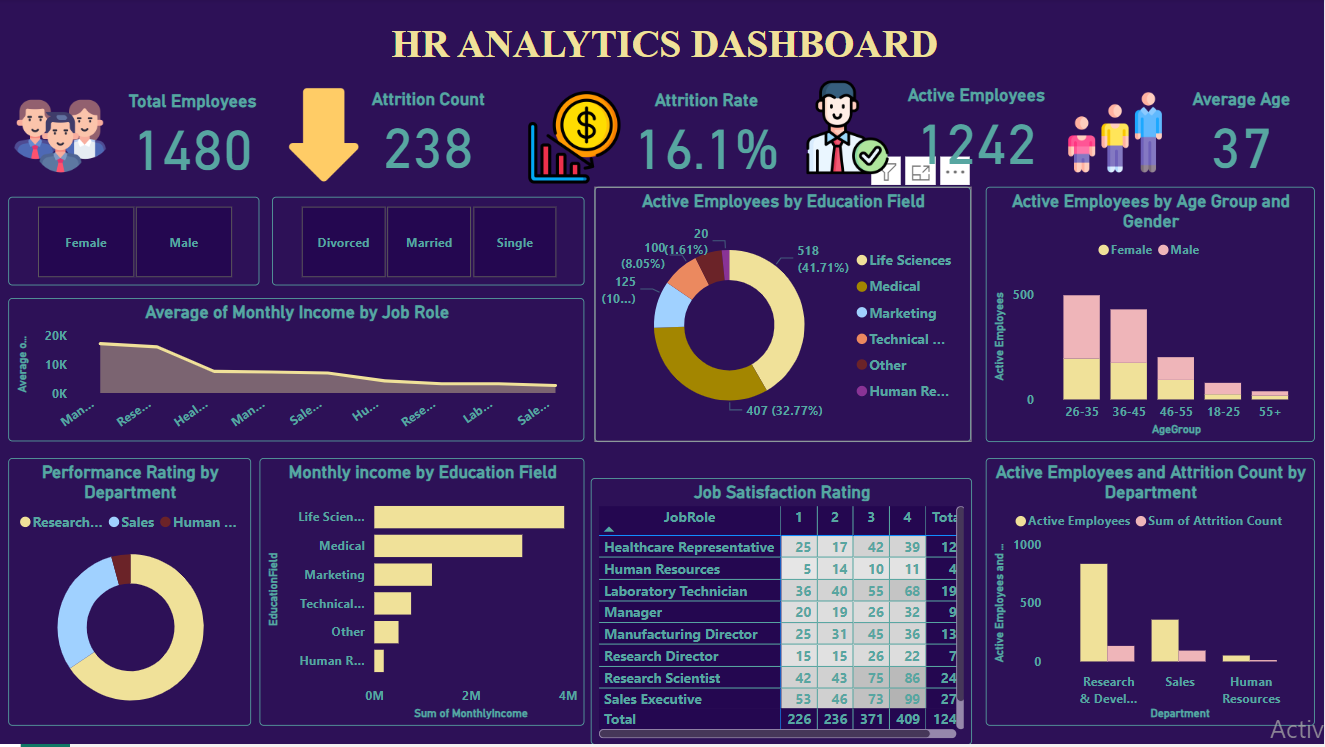

Layout of this report page (visuals, bound fields, positions):
{"tool":"powerbi","page":{"name":"Page 1","canvas":[1280,720],"ordinal":0},"visuals":[{"type":"card","title":"Total Employees","fields":{"Values":["Sum(HR_Analytics.EmployeeCount)"]},"box":[111,89.2,155.6,83.2],"z":0,"group":"g1"},{"type":"clusteredColumnChart","title":"Active Employees and Attrition Count by Department","fields":{"Category":["HR_Analytics.Department"],"Y":["HR_Analytics.Active Employees","Sum(HR_Analytics.Attrition Count)"]},"box":[954.3,444,317.3,258.2],"z":0},{"type":"card","title":"Attrition Count","fields":{"Values":["Sum(HR_Analytics.Attrition Count)"]},"box":[336.6,86.8,159.3,83.2],"z":1000,"group":"g1"},{"type":"donutChart","title":"Active Employees by Education Field","fields":{"Y":["HR_Analytics.Active Employees"],"Category":["HR_Analytics.EducationField"]},"box":[576.7,182.2,363.1,246.1],"z":1000},{"type":"card","title":" Attrition Rate","fields":{"Values":["HR_Analytics.Attrition Rate"]},"box":[608.1,88,153.2,83.2],"z":2000,"group":"g1"},{"type":"columnChart","title":"Active Employees by Age Group and Gender","fields":{"Y":["HR_Analytics.Active Employees"],"Category":["HR_Analytics.AgeGroup"],"Series":["HR_Analytics.Gender"]},"box":[954.3,182.2,317.3,246.1],"z":2000},{"type":"card","title":"Active Employees","fields":{"Values":["HR_Analytics.Active Employees"]},"box":[869.9,83.2,150.8,83.2],"z":3000,"group":"g1"},{"type":"pivotTable","title":"Job Satisfaction Rating","fields":{"Rows":["HR_Analytics.JobRole"],"Columns":["HR_Analytics.JobSatisfaction"],"Values":["HR_Analytics.Active Employees"]},"box":[576.7,444,368,258.2],"z":3000},{"type":"card","title":"Average Age","fields":{"Values":["Avg(HR_Analytics.Age)"]},"box":[1122,86.8,158,83.2],"z":4000,"group":"g1"},{"type":"donutChart","title":"Performance Rating by Department","fields":{"Y":["Sum(HR_Analytics.PerformanceRating)"],"Category":["HR_Analytics.Department"]},"box":[10.9,444,234,258.2],"z":4000},{"type":"clusteredBarChart","title":"Active Employees by Education Field","fields":{"Y":["Sum(HR_Analytics.MonthlyIncome)"],"Category":["HR_Analytics.EducationField"]},"box":[253.4,444,313.7,258.2],"z":5000},{"type":"areaChart","title":"Average of Monthly Income by Job Role","fields":{"Category":["HR_Analytics.JobRole"],"Y":["Avg(HR_Analytics.MonthlyIncome)"]},"box":[10.9,289.5,556.2,138.7],"z":6000},{"type":"slicer","fields":{"Values":["HR_Analytics.Gender"]},"box":[10.9,191.8,242.5,85.7],"z":7000},{"type":"slicer","fields":{"Values":["HR_Analytics.MaritalStatus"]},"box":[265.4,191.8,301.6,85.7],"z":8000},{"type":"image","box":[1029.1,79.6,100.1,100.1],"z":9000},{"type":"image","box":[770.9,74.8,100.1,100.1],"z":10000},{"type":"image","box":[265.4,82,100.1,100.1],"z":11000},{"type":"image","box":[10.9,83.2,100.1,100.1],"z":12000},{"type":"image","box":[507.9,84.5,100.1,100.1],"z":13000},{"type":"textbox","box":[8.4,0,1271.6,72.4],"z":14000},{"type":"group","id":"g1","title":"Group 1","box":[111,83.2,1169,89.3],"z":15000}]}

Visuals, with their boxes in screenshot pixels (x1, y1, x2, y2), scaled from the page's 1280x720 canvas onto the 1325x747 screenshot:
"Total Employees" card: bbox=(115, 93, 276, 179)
"Active Employees and Attrition Count by Department" clusteredColumnChart: bbox=(988, 461, 1316, 729)
"Attrition Count" card: bbox=(348, 90, 513, 176)
"Active Employees by Education Field" donutChart: bbox=(597, 189, 973, 444)
" Attrition Rate" card: bbox=(629, 91, 788, 178)
"Active Employees by Age Group and Gender" columnChart: bbox=(988, 189, 1316, 444)
"Active Employees" card: bbox=(900, 86, 1057, 173)
"Job Satisfaction Rating" pivotTable: bbox=(597, 461, 978, 729)
"Average Age" card: bbox=(1161, 90, 1324, 176)
"Performance Rating by Department" donutChart: bbox=(11, 461, 254, 729)
"Active Employees by Education Field" clusteredBarChart: bbox=(262, 461, 587, 729)
"Average of Monthly Income by Job Role" areaChart: bbox=(11, 300, 587, 444)
slicer - HR_Analytics.Gender: bbox=(11, 199, 262, 288)
slicer - HR_Analytics.MaritalStatus: bbox=(275, 199, 587, 288)
image: bbox=(1065, 83, 1169, 186)
image: bbox=(798, 78, 902, 181)
image: bbox=(275, 85, 378, 189)
image: bbox=(11, 86, 115, 190)
image: bbox=(526, 88, 629, 192)
textbox: bbox=(9, 0, 1324, 75)
"Group 1" group: bbox=(115, 86, 1324, 179)
